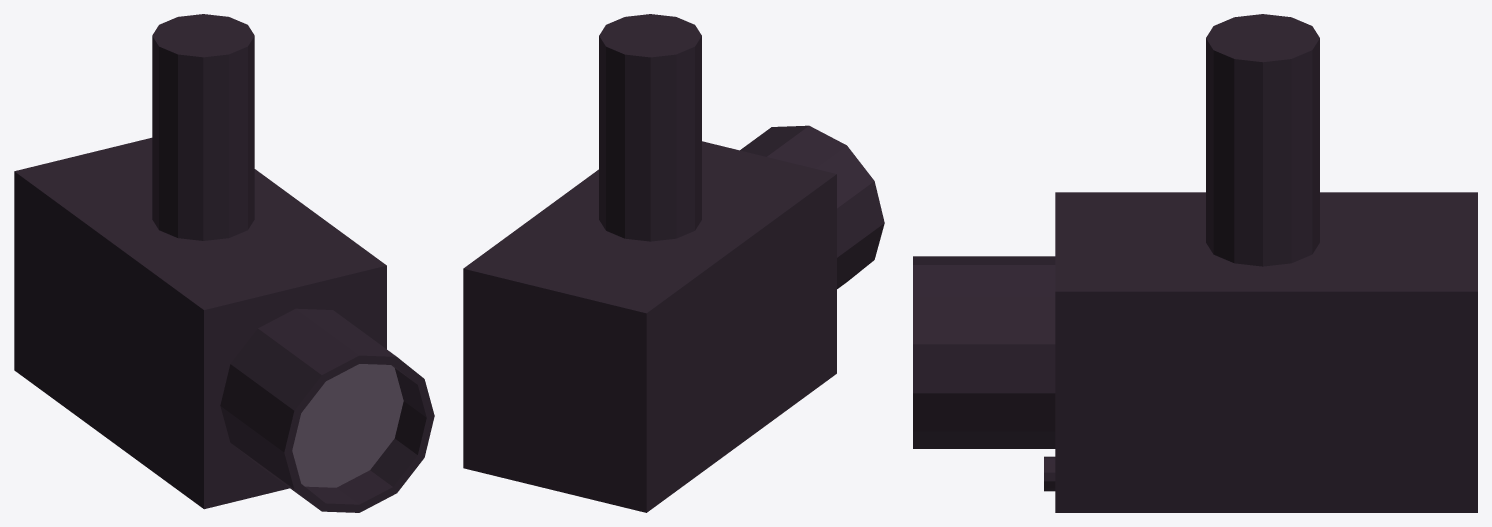
File: Camara.fbx
The picture shows the model from 3 angles, left to right: view 1: azimuth 30°, elevation 25°; view 2: azimuth 150°, elevation 25°; view 3: azimuth 270°, elevation 25°; orthographic projection. The views are drawn at different scales.
Visible parts, largest first — view 1: Camera; view 2: Camera; view 3: Camera.
Part boxes in pixels (x1=…): Camera: x1=14, y1=14, x2=434, y2=512; Camera: x1=463, y1=14, x2=884, y2=512; Camera: x1=913, y1=14, x2=1477, y2=512.
Bounding box in the file's own units: 20.24 × 40.48 × 48.64.
Materials: 1 (1 with a texture image).
